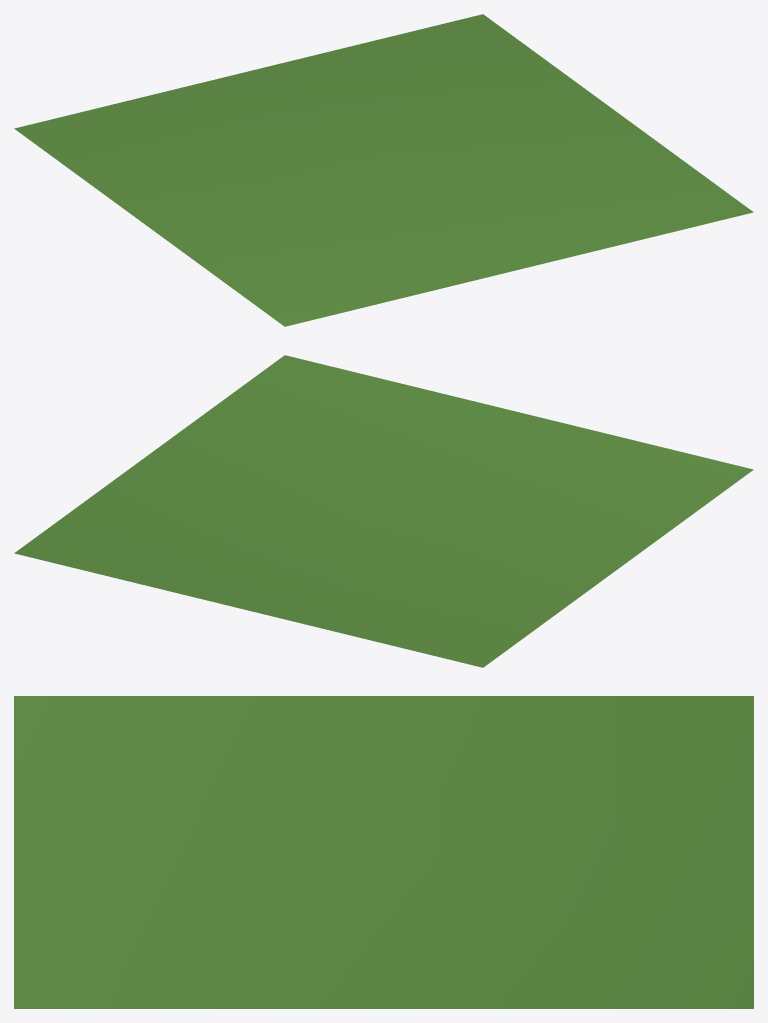
The model's file is terrain_8_0_2.glb.
The picture shows the model from 3 angles, top to bottom: view 1: azimuth 30°, elevation 25°; view 2: azimuth 150°, elevation 25°; view 3: azimuth 270°, elevation 25°; orthographic projection. The views are drawn at different scales.
Visible parts, largest first — view 1: m; view 2: m; view 3: m.
Part boxes in pixels (x1,y1,x2,y2): m: (14,14,753,326); m: (14,355,753,667); m: (14,696,753,1008).
Bounding box in the file's own units: 4 × 0 × 4.
